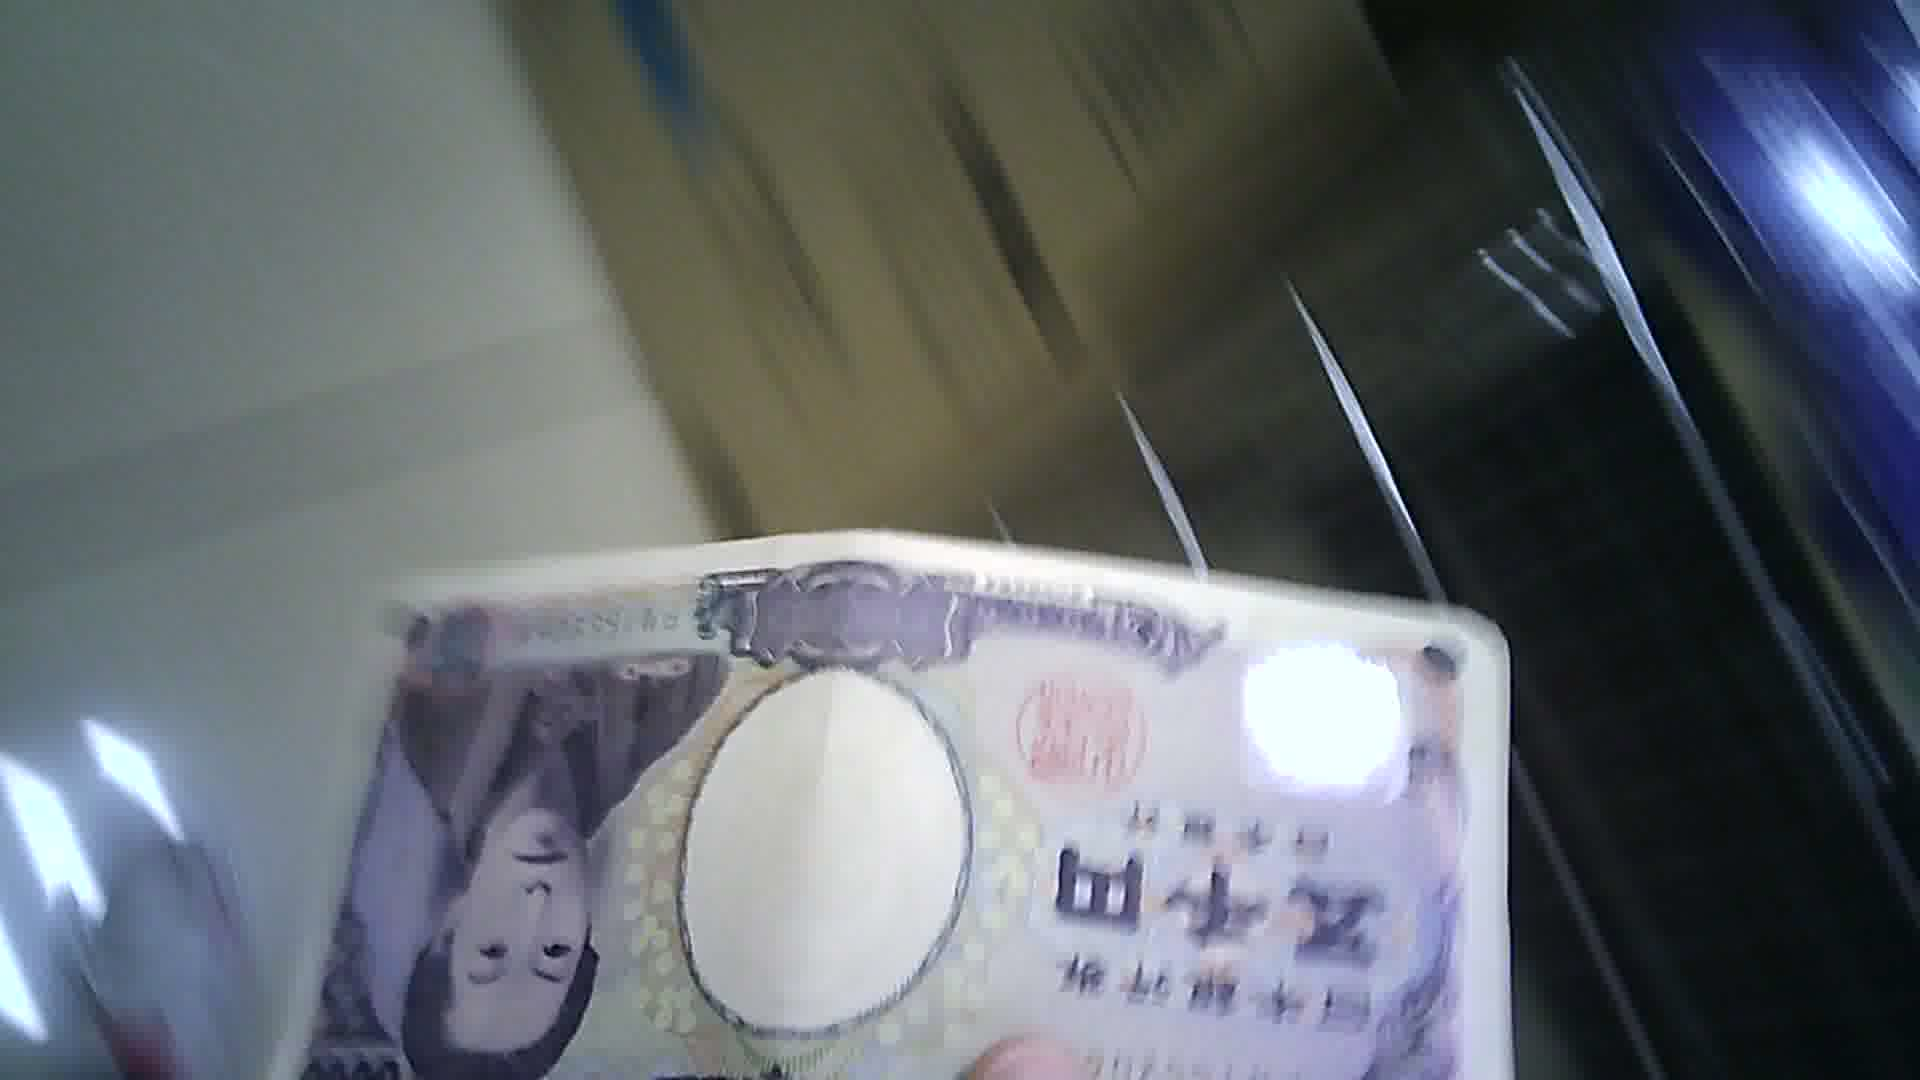5,000 Yen: (314, 543, 1484, 1079)
